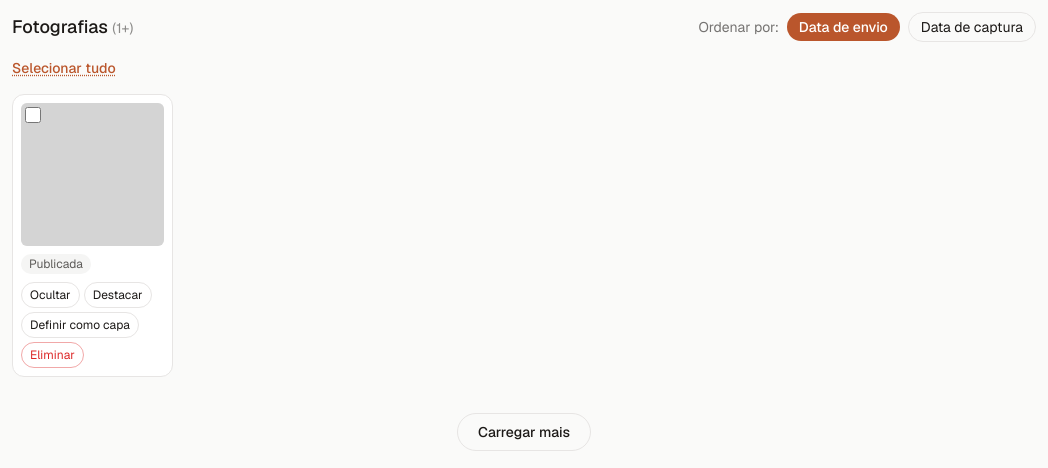
PhotoModeration — selecionar tudo e ações em lote › 'Selecionar tudo' carrega primeiro as páginas em falta
The width and height of the screenshot is (1048, 468).
Click the button "Selecionar tudo".
click(64, 68)  # box left=12, top=58, right=116, bottom=78
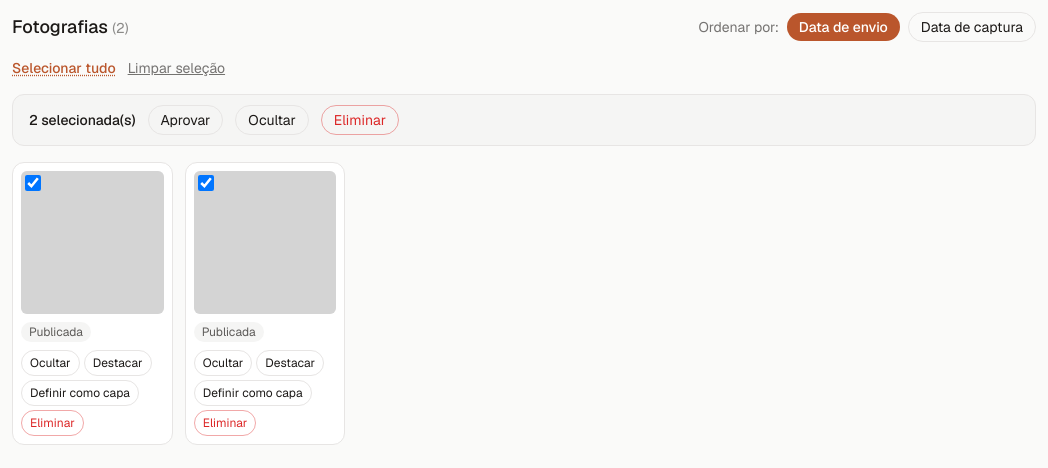
Check: the text "2 selecionada(s)" is shown, box left=29, top=110, right=136, bottom=130
